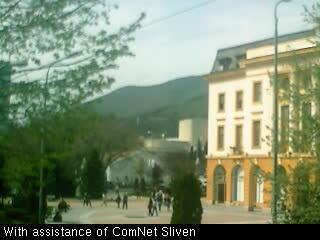person: (151, 198, 159, 217), (156, 189, 163, 208), (147, 198, 154, 216), (165, 193, 172, 211), (85, 192, 92, 207), (101, 193, 108, 207), (122, 193, 128, 209), (116, 193, 121, 208), (136, 188, 141, 199)
